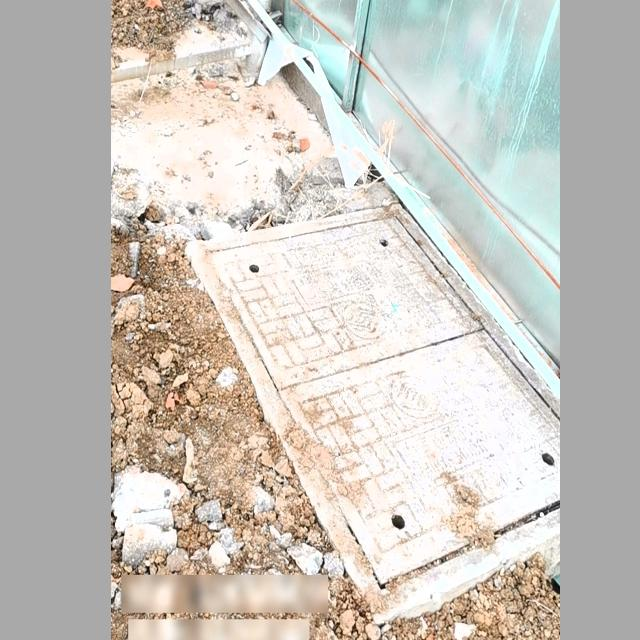good: (195, 210, 557, 618)
